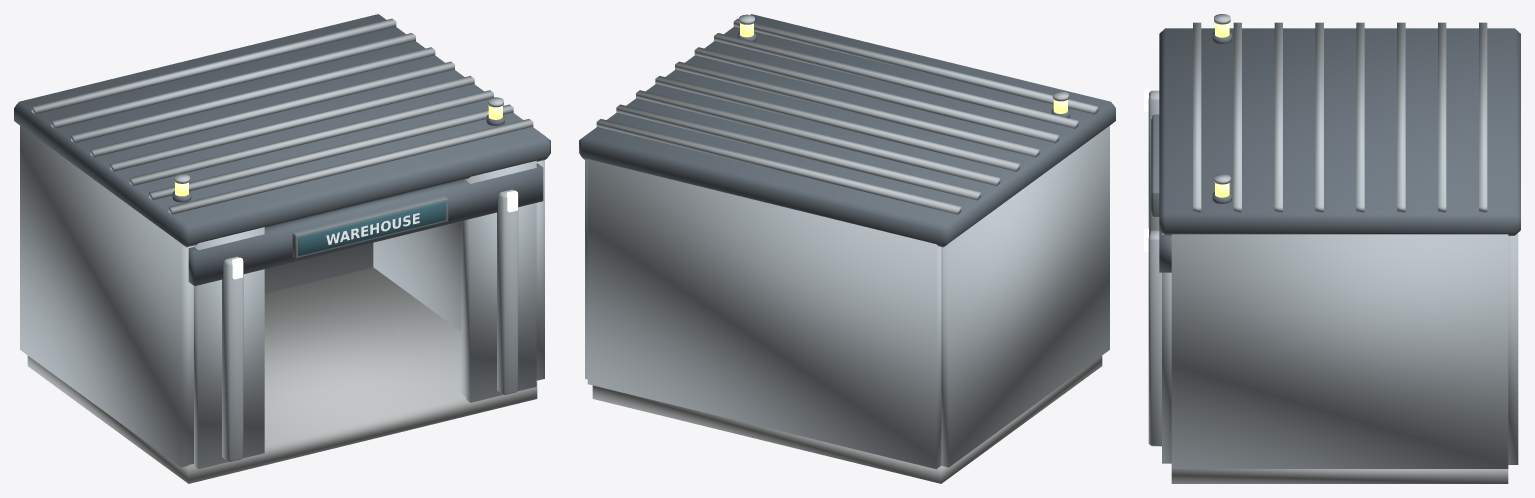
The model's file is warehouse_enhanced.glb.
3 renders of one model, left to right at view 1: azimuth 30°, elevation 25°; view 2: azimuth 150°, elevation 25°; view 3: azimuth 270°, elevation 25°, orthographic. The views are drawn at different scales.
Visible parts, largest first — view 1: Wall_steel_legacy_1, Roof_dark_legacy_2, Foundation_concrete_legacy_0, RoofRib_steel_legacy_12, FrontFrame_steel_legacy_3, Header_dark_legacy_4, PortalTrim_steel_legacy_14, SignPlate_glass, ScreenMount_frame, TypeLabel_white; view 2: Wall_steel_legacy_1, Roof_dark_legacy_2, RoofRib_steel_legacy_12, Foundation_concrete_legacy_0; view 3: Wall_steel_legacy_1, Roof_dark_legacy_2, RoofRib_steel_legacy_12, Foundation_concrete_legacy_0, PortalTrim_steel_legacy_14, FrontFrame_steel_legacy_3, ScreenMount_frame, Header_dark_legacy_4, StatusLight_warn_legacy_10.
Boxes of the visible parts, x1,y1,x2,y2 form: Wall_steel_legacy_1: [20, 125, 544, 467]; Roof_dark_legacy_2: [14, 14, 550, 247]; Foundation_concrete_legacy_0: [27, 267, 537, 483]; RoofRib_steel_legacy_12: [31, 18, 533, 214]; FrontFrame_steel_legacy_3: [194, 160, 536, 469]; Header_dark_legacy_4: [188, 163, 543, 285]; PortalTrim_steel_legacy_14: [222, 189, 518, 462]; SignPlate_glass: [298, 201, 446, 255]; ScreenMount_frame: [292, 196, 448, 258]; TypeLabel_white: [326, 213, 419, 244]; Wall_steel_legacy_1: [585, 125, 1109, 469]; Roof_dark_legacy_2: [579, 14, 1115, 247]; RoofRib_steel_legacy_12: [596, 18, 1098, 214]; Foundation_concrete_legacy_0: [592, 356, 1102, 483]; Wall_steel_legacy_1: [1171, 233, 1518, 468]; Roof_dark_legacy_2: [1159, 28, 1520, 235]; RoofRib_steel_legacy_12: [1193, 22, 1487, 212]; Foundation_concrete_legacy_0: [1171, 469, 1508, 483]; PortalTrim_steel_legacy_14: [1148, 90, 1161, 446]; FrontFrame_steel_legacy_3: [1162, 233, 1171, 463]; ScreenMount_frame: [1152, 114, 1159, 216]; Header_dark_legacy_4: [1159, 230, 1171, 272]; StatusLight_warn_legacy_10: [1215, 23, 1229, 197].
Size of the model in its own units: 5.3 by 3.9 by 4.48.
